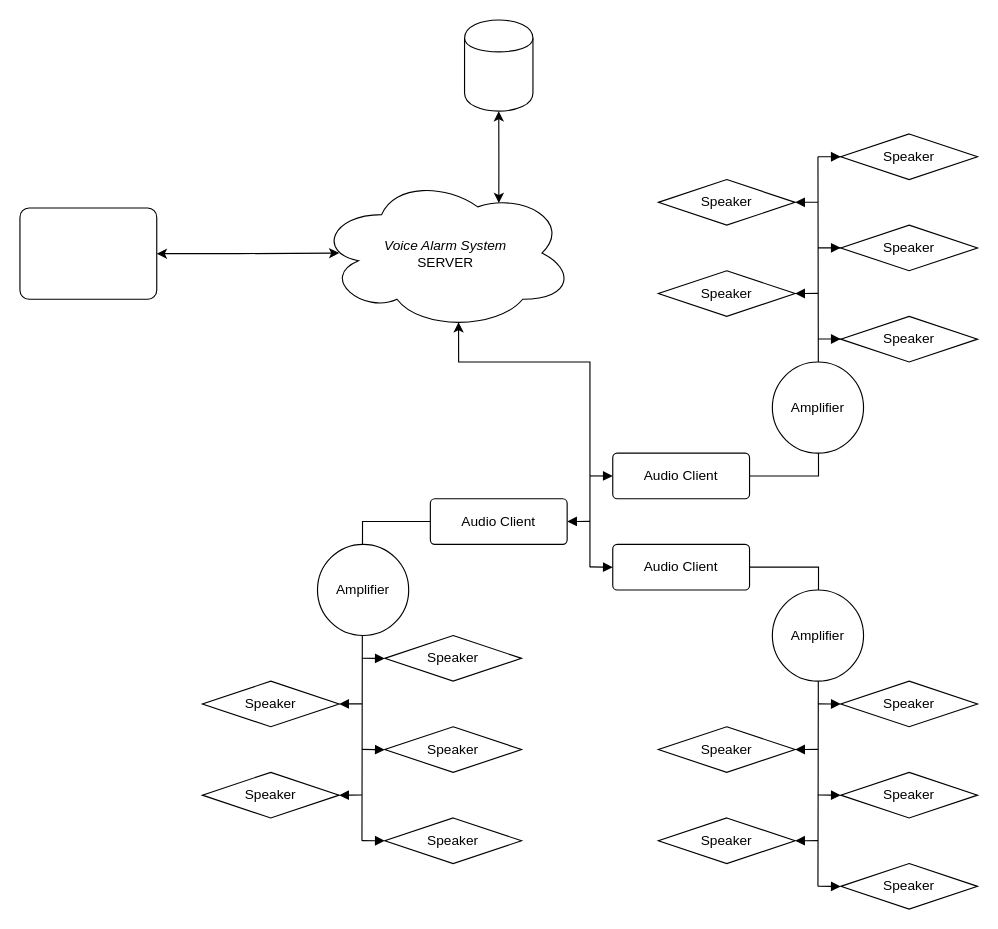
Image size: 998x929. Some labels were removed from this diagram. The centre of each missing label's shape, as x and y in pixels:
Postgres SQL: (x=498, y=65)
User Client Microphone Keyboard: (x=88, y=253)
